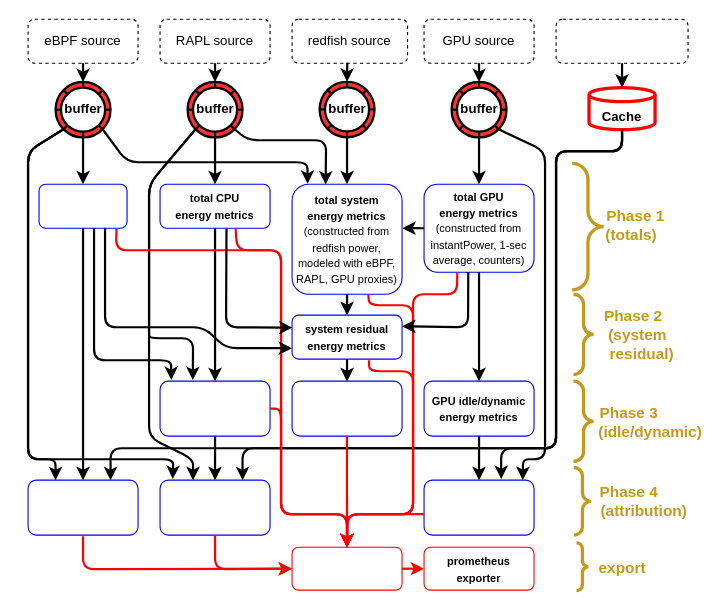
Some shapes in this 721 by 612 pixel diagram are drawn without their labels. The box of each missing label's shape, as (x1, y1, x2, y2) in pixels:
CPU idle/dynamic energy metrics: (159, 380, 270, 436)
metadata sources: (555, 18, 688, 63)
metric sink: (291, 546, 402, 590)
system residual idle/dynamic energy metrics: (291, 380, 402, 436)
total utililzation metrics: (38, 183, 127, 228)
workload CPU energy metrics (idle/dynamic): (159, 479, 270, 535)
workload GPU energy metrics (idle/dynamic): (423, 479, 534, 535)
workload utilization metrics: (27, 479, 138, 535)
